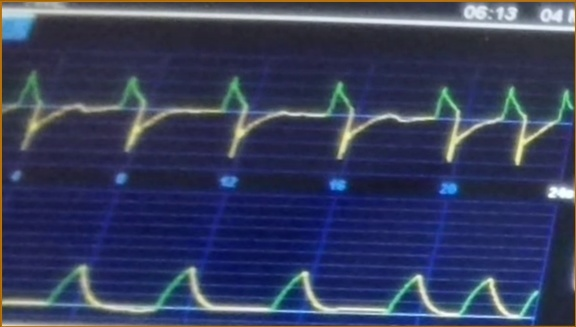Ineffective_effort Flow: (2, 61, 573, 164)
Ineffective_effort Volume: (2, 234, 536, 322)
